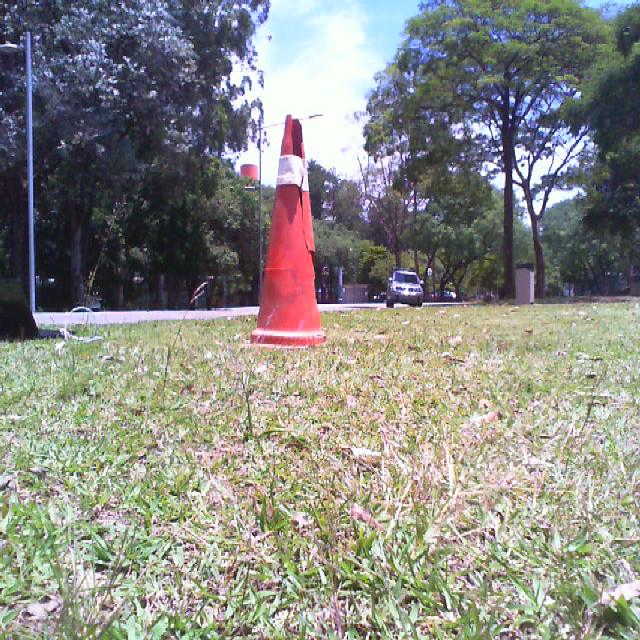cone: (245, 113, 328, 350)
